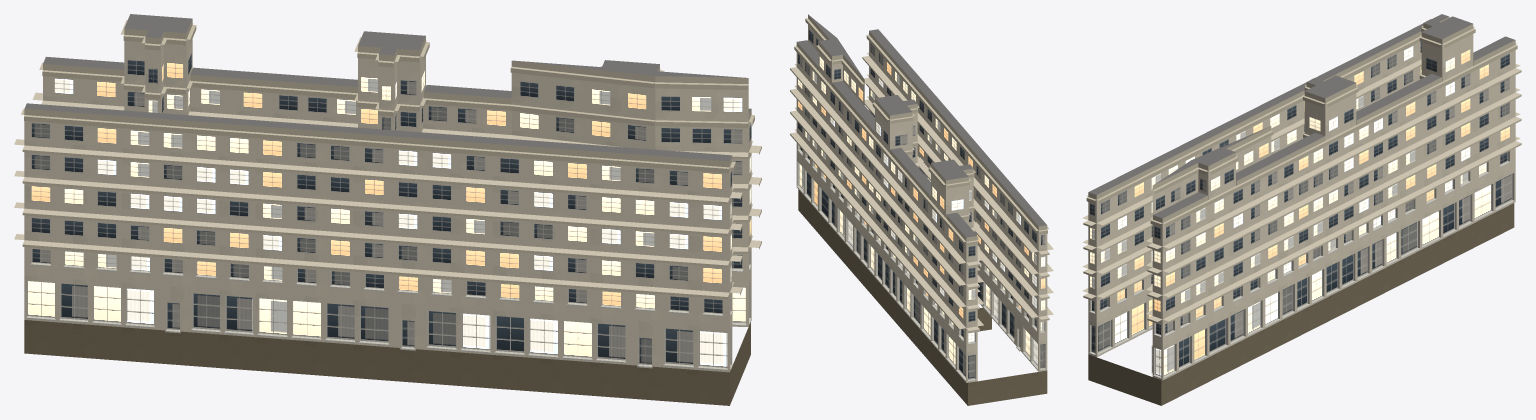
The model's file is z3R2_brau_s.glb.
3 views of the same model, side by side, from view 1: azimuth 30°, elevation 25°; view 2: azimuth 150°, elevation 25°; view 3: azimuth 270°, elevation 25° (orthographic). The views are drawn at different scales.
Visible parts, largest first — view 1: z3R2_brau_s; view 2: z3R2_brau_s; view 3: z3R2_brau_s.
Boxes of the visible parts, <box> form: z3R2_brau_s: <box>14,14,761,405</box>; z3R2_brau_s: <box>790,14,1053,405</box>; z3R2_brau_s: <box>1082,14,1521,405</box>.
Bounding box in the file's own units: 52.29 × 26.25 × 46.34.
3 materials, 3 textured.
